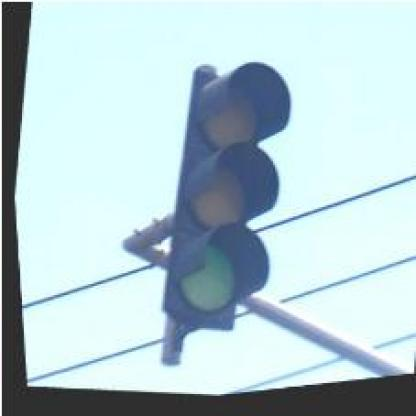green: (141, 51, 306, 344)
